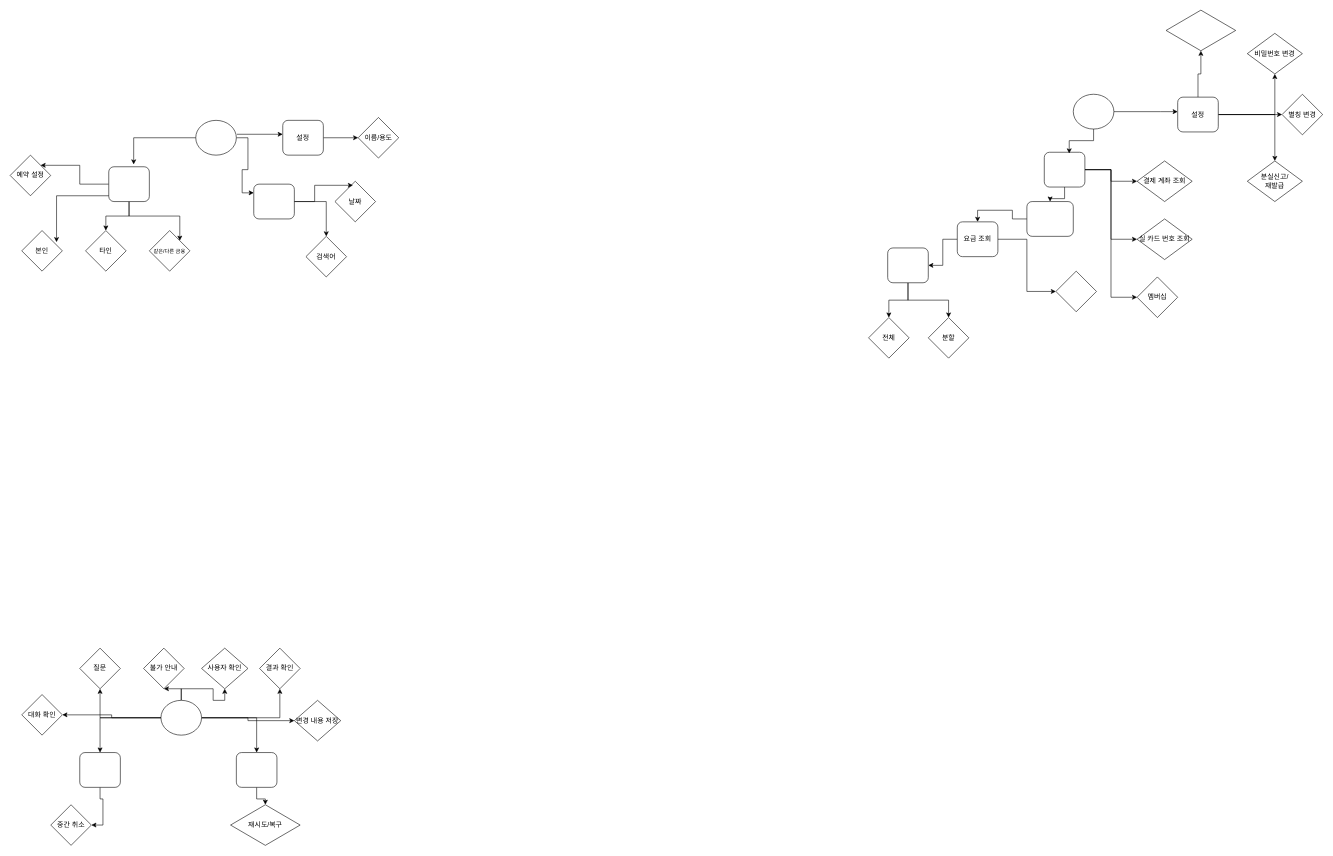
The diagram is 1333 pixels wide and 856 high, and some of its shapes have lost their labels. Each missing label, with the box of its shape:
계좌: (195, 120, 236, 155)
공통: (160, 700, 202, 735)
명세서: (1055, 271, 1096, 312)
승인/거절: (79, 752, 120, 787)
오류: (236, 752, 277, 787)
요금 결제: (887, 247, 928, 283)
은행별 카드 조회: (1044, 152, 1085, 187)
이용내역 조회: (1026, 201, 1073, 236)
이체: (108, 166, 149, 202)
조회: (253, 184, 294, 219)
카드: (1073, 94, 1114, 129)
카드 등록 /해지: (1166, 10, 1236, 51)
